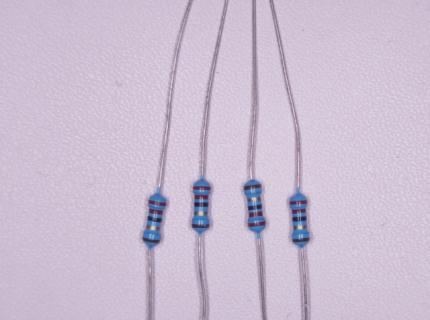Black band: (146, 215, 162, 223), (247, 204, 263, 211), (194, 202, 209, 207), (292, 217, 307, 222)
Brown band: (243, 184, 262, 191), (142, 237, 160, 243), (191, 223, 210, 228), (292, 238, 310, 243)
Gold band: (146, 224, 161, 232), (293, 225, 308, 230), (247, 197, 261, 202), (194, 211, 208, 215)
Red band: (148, 199, 167, 207), (248, 221, 266, 227), (148, 208, 163, 215), (289, 200, 308, 205), (249, 211, 263, 217), (291, 209, 307, 214), (194, 194, 209, 199), (193, 186, 211, 190)
